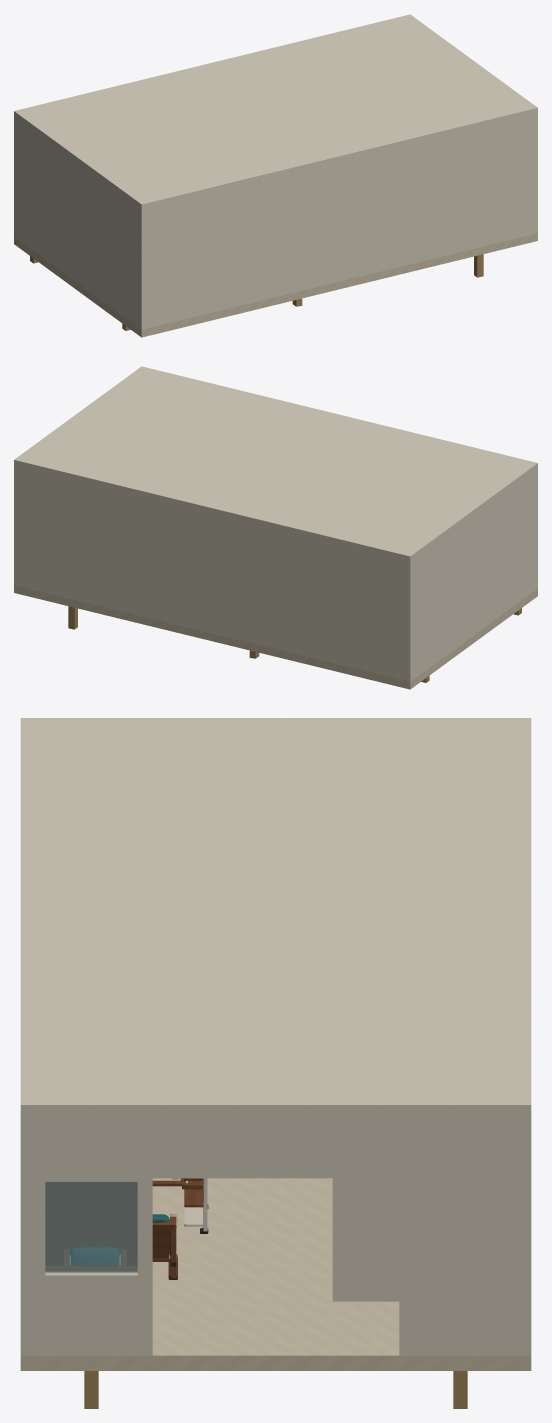
File: StarAtlasSpecialty_569.glb
The picture shows the model from 3 angles, top to bottom: view 1: azimuth 30°, elevation 25°; view 2: azimuth 150°, elevation 25°; view 3: azimuth 270°, elevation 25°; orthographic projection. The views are drawn at different scales.
Parts seen in each view (by area): view 1: SA569_Ceiling, SA569_NorthSide, SA569_OpaqueRearBoundary, SA569_RoomFloor; view 2: SA569_Ceiling, SA569_SouthSide, SA569_OpaqueRearBoundary, SA569_RoomFloor; view 3: SA569_Ceiling, SA569_RoomFloor, SA569_EntryShoulderSouth, SA569_EntryHeader, SA569_StreetWindowLower, SA569_ScreenedStreetGlass, SA569_WashEntrySide, SA569_StreetWindowUpper, SA569_EntryPrivacyDogleg, SA569_NorthSide, SA569_SouthSide, SA569_StreetWindowOuterPier (+2 smaller).
Part boxes in pixels (x1,y1,x2,y2): SA569_Ceiling: (14, 14, 537, 209); SA569_NorthSide: (139, 113, 537, 329); SA569_OpaqueRearBoundary: (16, 118, 139, 327); SA569_RoomFloor: (14, 233, 537, 337); SA569_Ceiling: (14, 366, 537, 561); SA569_SouthSide: (14, 465, 412, 681); SA569_OpaqueRearBoundary: (412, 470, 535, 679); SA569_RoomFloor: (14, 585, 537, 689); SA569_Ceiling: (20, 718, 531, 1115); SA569_RoomFloor: (20, 1178, 531, 1370); SA569_EntryShoulderSouth: (399, 1115, 522, 1355); SA569_EntryHeader: (148, 1115, 403, 1178); SA569_StreetWindowLower: (29, 1272, 152, 1355); SA569_ScreenedStreetGlass: (45, 1182, 137, 1272); SA569_WashEntrySide: (332, 1178, 399, 1301); SA569_StreetWindowUpper: (29, 1115, 152, 1181); SA569_EntryPrivacyDogleg: (45, 1182, 137, 1265); SA569_NorthSide: (20, 1115, 28, 1355); SA569_SouthSide: (523, 1115, 531, 1355); SA569_StreetWindowOuterPier: (29, 1182, 45, 1275).
Size of the model in its own units: 12.9 by 5.31 by 7.2.
73 materials, 49 textured.
